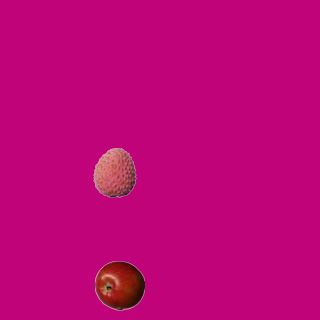Apple Braeburn: (94, 260, 144, 310)
Lychee: (89, 147, 139, 197)
